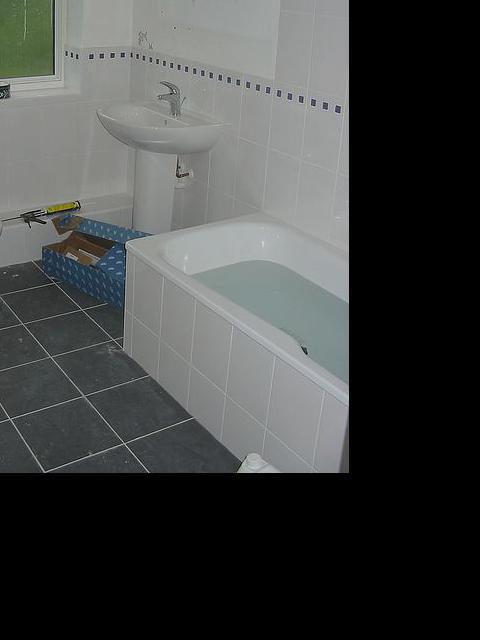Lavamanos: (95, 74, 222, 163)
Otro Obstaculo: (41, 206, 174, 327), (14, 197, 88, 235), (0, 115, 9, 311), (0, 365, 2, 463)
